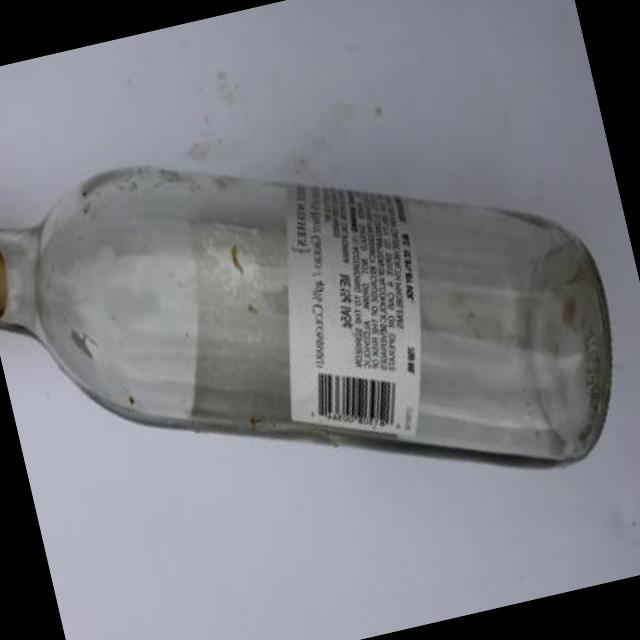chai_thuy_tinh: (0, 162, 614, 470)
